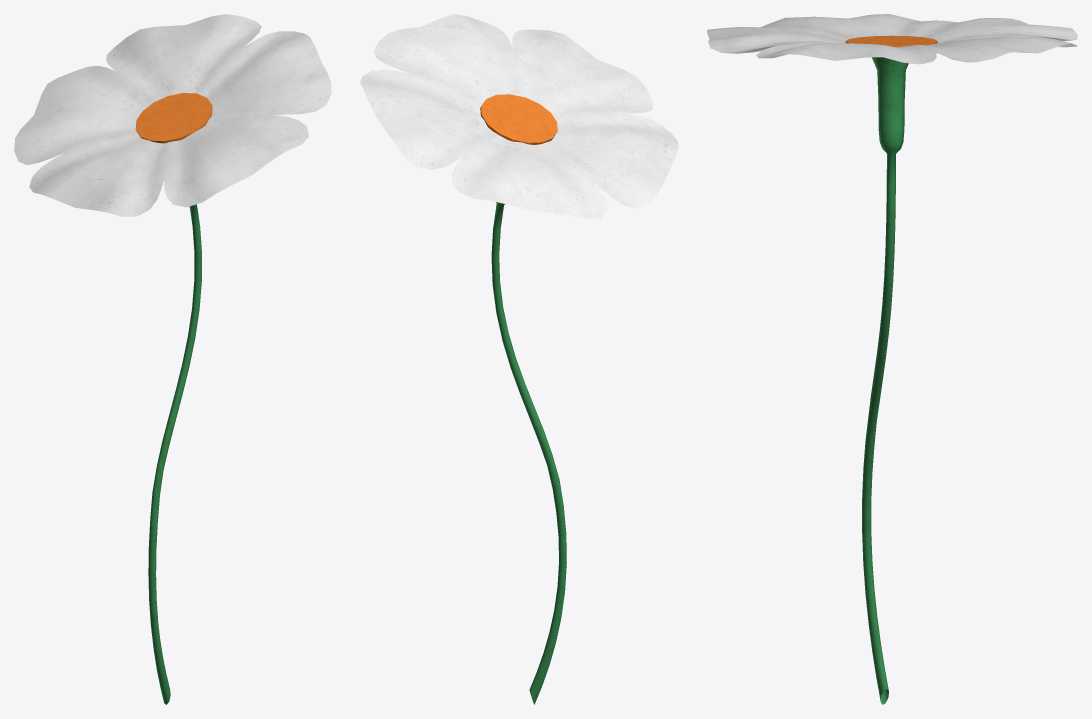
The model's file is Flower.fbx.
The picture shows the model from 3 angles, left to right: view 1: azimuth 30°, elevation 25°; view 2: azimuth 150°, elevation 25°; view 3: azimuth 270°, elevation 25°; orthographic projection. The views are drawn at different scales.
Parts seen in each view (by area): view 1: Flower; view 2: Flower; view 3: Flower.
Part boxes in pixels (left/top/right/bottom): Flower: left=14, top=14, right=331, bottom=704; Flower: left=360, top=14, right=678, bottom=704; Flower: left=707, top=14, right=1077, bottom=704.
Bounding box in the file's own units: 5.29 × 5.47 × 11.84.
